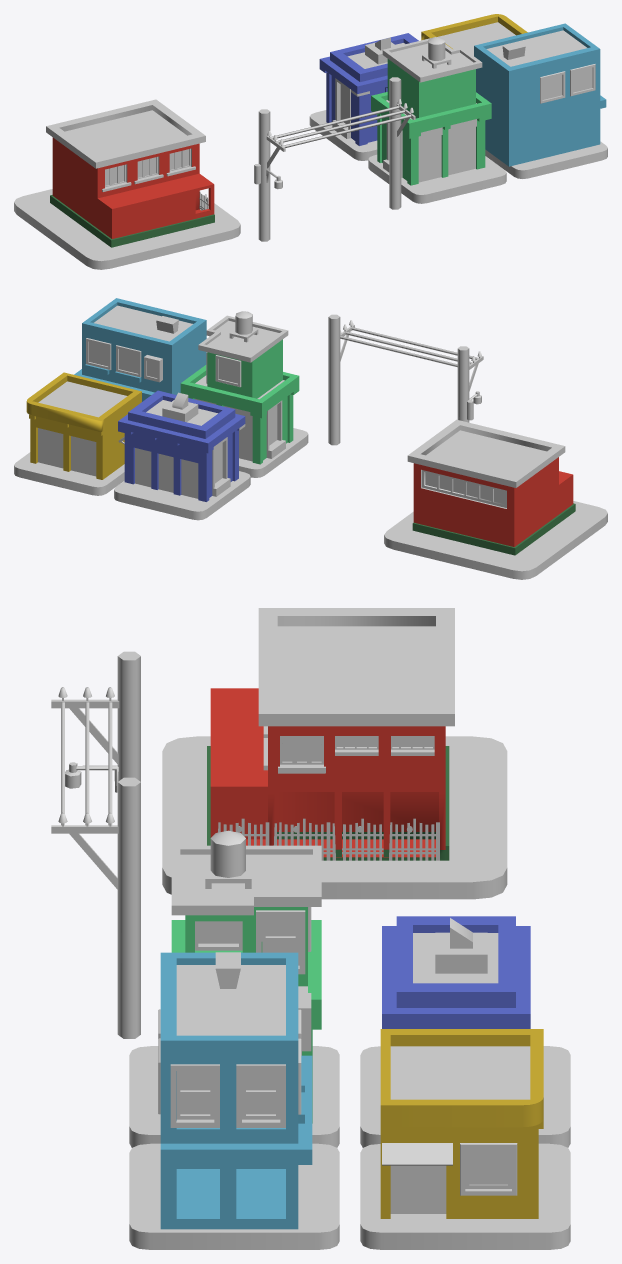
The model's file is bomberos_m.fbx.
3 views of the same model, one above another, from view 1: azimuth 30°, elevation 25°; view 2: azimuth 150°, elevation 25°; view 3: azimuth 270°, elevation 25° (orthographic). The views are drawn at different scales.
Visible parts, largest first — view 1: bomberos_m; view 2: bomberos_m; view 3: bomberos_m.
Part boxes in pixels (x1,y1,x2,y2): bomberos_m: (14, 14, 607, 269); bomberos_m: (14, 298, 607, 579); bomberos_m: (51, 608, 570, 1249).
Bounding box in the file's own units: 3052 × 795 × 1363.
